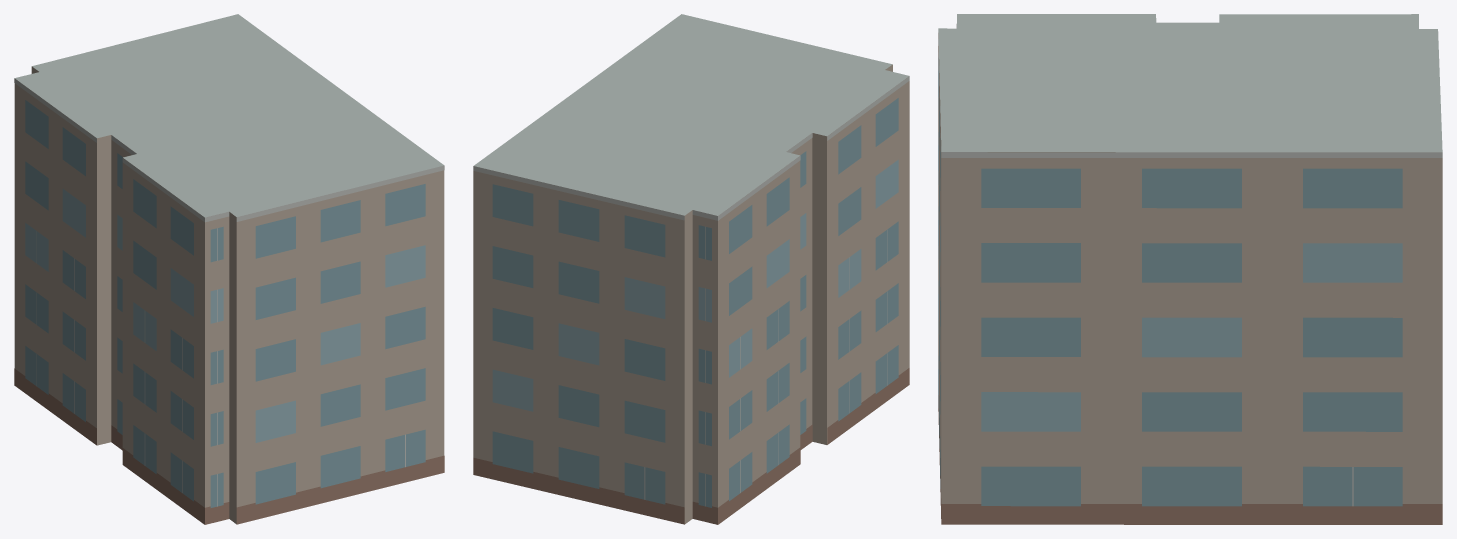
Rendered from survey-upis-32654850.glb.
The picture shows the model from 3 angles, left to right: view 1: azimuth 30°, elevation 25°; view 2: azimuth 150°, elevation 25°; view 3: azimuth 270°, elevation 25°; orthographic projection. The views are drawn at different scales.
Parts seen in each view (by area): view 1: survey-upis-32654850.tmp; view 2: survey-upis-32654850.tmp; view 3: survey-upis-32654850.tmp.
Boxes of the visible parts, x1,y1,x2,y2 form: survey-upis-32654850.tmp: (14, 14, 444, 524); survey-upis-32654850.tmp: (473, 14, 909, 524); survey-upis-32654850.tmp: (938, 14, 1442, 524).
Bounding box in the file's own units: 12.4 × 15.56 × 19.1.
